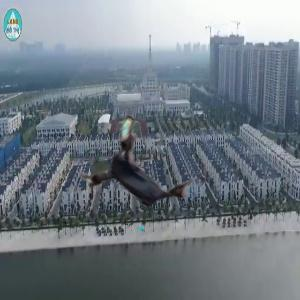drone: (77, 106, 209, 238)
